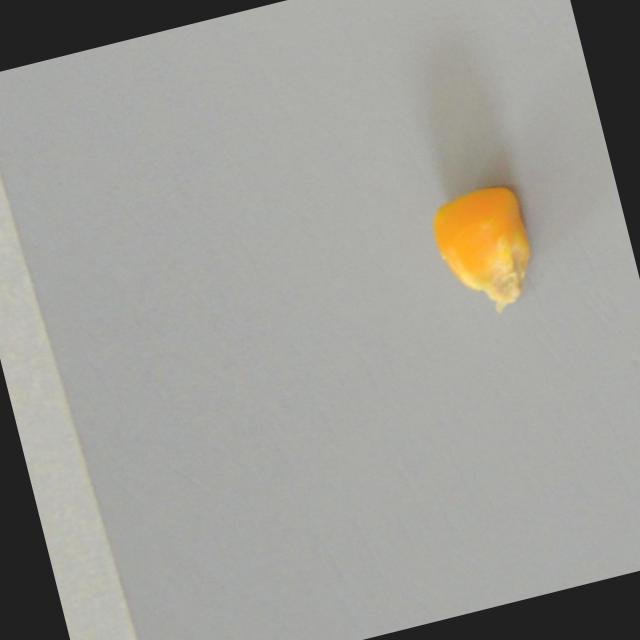entero: (417, 172, 554, 329)
